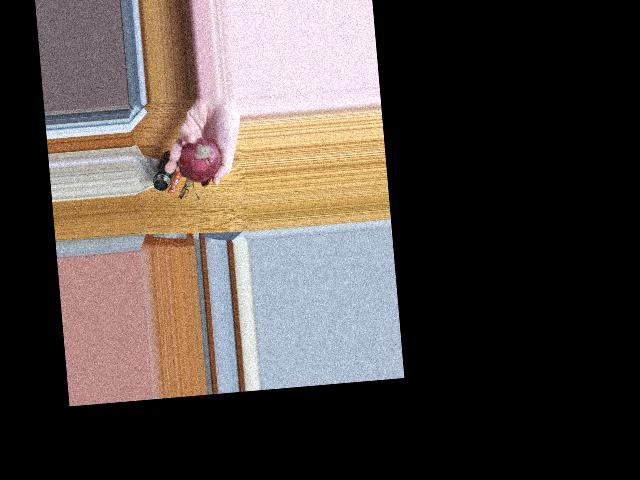onion: (183, 131, 223, 180)
